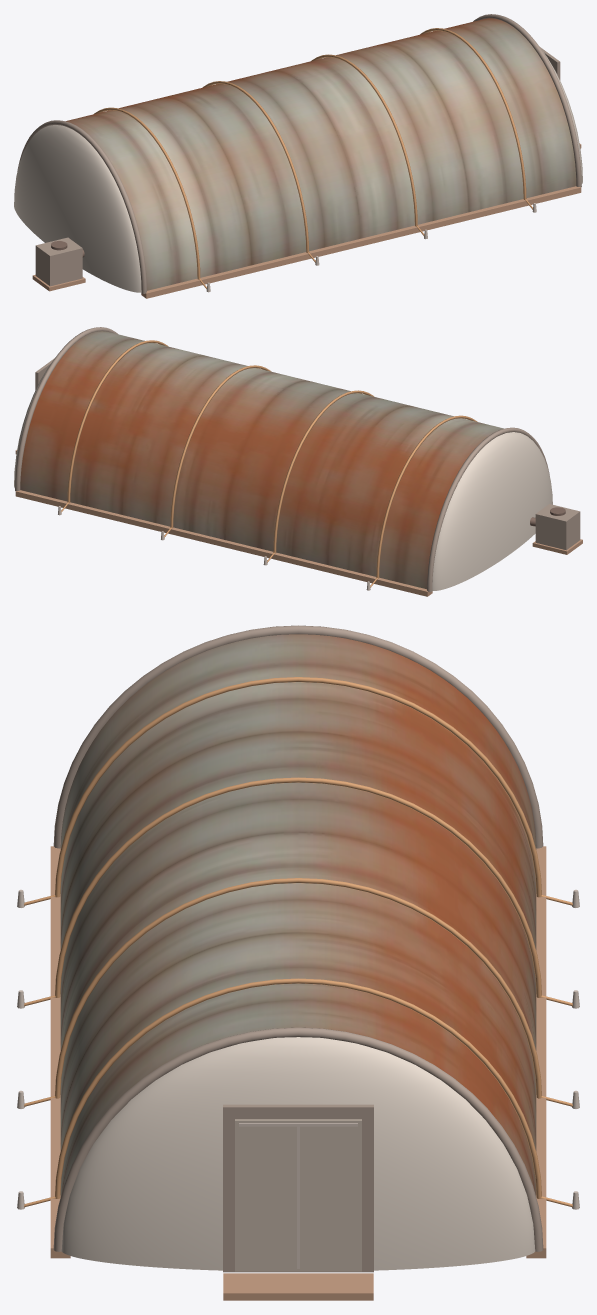
Rendered from I03_storage_tent_12m.glb.
The picture shows the model from 3 angles, top to bottom: view 1: azimuth 30°, elevation 25°; view 2: azimuth 150°, elevation 25°; view 3: azimuth 270°, elevation 25°; orthographic projection. The views are drawn at different scales.
Parts seen in each view (by area): view 1: membrane, end_bulge, end_arch, ground_beam, anchor_strap; view 2: membrane, end_bulge, end_arch, ground_beam, anchor_strap; view 3: membrane, end_bulge, anchor_strap, end_arch, ground_beam, ground_peg.
Boxes of the visible parts, left/top/right/bottom form: membrane: left=66, top=18, right=576, bottom=290; end_bulge: left=14, top=46, right=582, bottom=292; end_arch: left=17, top=14, right=581, bottom=293; ground_beam: left=32, top=143, right=581, bottom=298; anchor_strap: left=51, top=28, right=532, bottom=289; membrane: left=20, top=331, right=503, bottom=589; end_bulge: left=14, top=357, right=552, bottom=590; end_arch: left=15, top=327, right=580, bottom=592; ground_beam: left=15, top=450, right=582, bottom=596; anchor_strap: left=61, top=340, right=565, bottom=587; membrane: left=60, top=634, right=536, bottom=1196; end_bulge: left=61, top=1037, right=535, bottom=1270; anchor_strap: left=24, top=677, right=572, bottom=1271; end_arch: left=53, top=625, right=543, bottom=1272; ground_beam: left=50, top=846, right=546, bottom=1300; ground_peg: left=17, top=889, right=579, bottom=1268.
Bounding box in the file's own units: 15.06 × 3.21 × 7.1.
6 materials, 1 textured.
